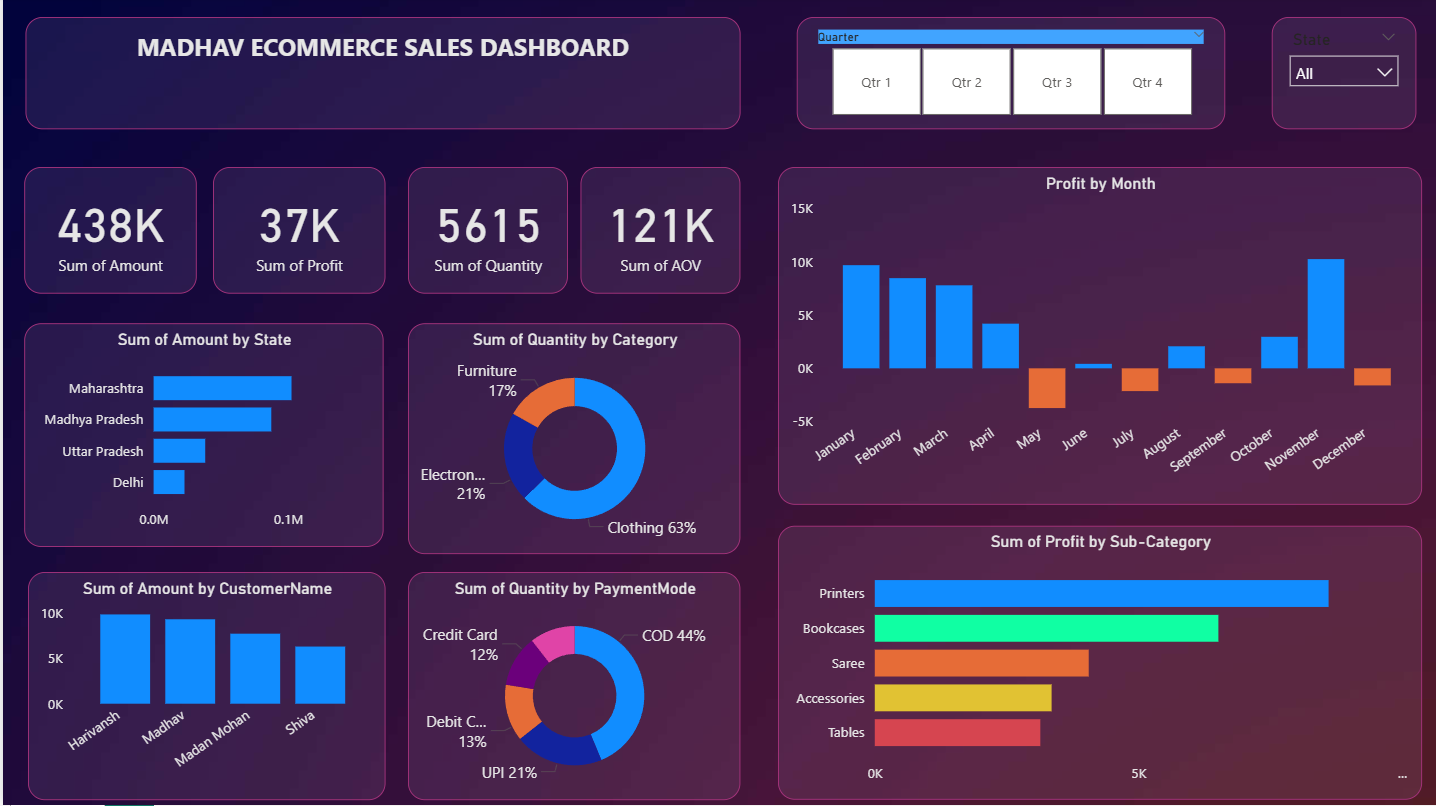

The dashboard page shown, as its layout file describes it:
{"tool":"powerbi","page":{"name":"Page 1","canvas":[1280,720],"ordinal":0},"visuals":[{"type":"textbox","box":[20.6,17.8,636.7,100.2],"z":0},{"type":"columnChart","title":" Profit by Month","fields":{"Category":["Orders.Order Date.Variation.Date Hierarchy.Month"],"Y":["Sum(Details.Profit)"]},"box":[690.2,150.9,573.6,300.5],"z":1000},{"type":"barChart","fields":{"Category":["Details.Sub-Category"],"Y":["Sum(Details.Profit)"]},"box":[690.2,470.7,573.6,244.3],"z":2000},{"type":"donutChart","fields":{"Y":["Sum(Details.Quantity)"],"Category":["Details.PaymentMode"]},"box":[360.9,511.8,296.4,203.1],"z":3000},{"type":"donutChart","fields":{"Y":["Sum(Details.Quantity)"],"Category":["Details.Category"]},"box":[360.9,290.9,296.4,205.8],"z":4000},{"type":"card","fields":{"Values":["Sum(Details.Amount)"]},"box":[19.2,150.9,153.7,112.5],"z":5000},{"type":"card","fields":{"Values":["Sum(Details.Quantity)"]},"box":[360.9,150.9,142.7,112.5],"z":6000},{"type":"card","fields":{"Values":["Sum(Details.Profit)"]},"box":[186.6,150.9,153.7,112.5],"z":7000},{"type":"card","fields":{"Values":["Sum(Details.AOV)"]},"box":[514.6,150.9,142.7,112.5],"z":8000},{"type":"barChart","fields":{"Category":["Orders.State"],"Y":["Sum(Details.Amount)"]},"box":[19.2,290.9,319.7,199],"z":9000},{"type":"columnChart","fields":{"Category":["Orders.CustomerName"],"Y":["Sum(Details.Amount)"]},"box":[22,511.8,318.4,203.1],"z":10000},{"type":"slicer","fields":{"Values":["Orders.Order Date.Variation.Date Hierarchy.Quarter"]},"box":[706.7,17.8,381.5,100.2],"z":11000},{"type":"slicer","fields":{"Values":["Orders.State"]},"box":[1129.3,17.8,129,100.2],"z":12000}]}

Visuals, with their boxes in screenshot pixels (x1, y1, x2, y2), scaled from the page's 1280x720 canvas onto the 1436x806 screenshot:
textbox: select_region(23, 20, 737, 132)
" Profit by Month" columnChart: select_region(774, 169, 1418, 505)
barChart - Details.Sub-Category x Sum(Details.Profit): select_region(774, 527, 1418, 800)
donutChart - Sum(Details.Quantity) x Details.PaymentMode: select_region(405, 573, 737, 800)
donutChart - Sum(Details.Quantity) x Details.Category: select_region(405, 326, 737, 556)
card - Sum(Details.Amount): select_region(22, 169, 194, 295)
card - Sum(Details.Quantity): select_region(405, 169, 565, 295)
card - Sum(Details.Profit): select_region(209, 169, 382, 295)
card - Sum(Details.AOV): select_region(577, 169, 737, 295)
barChart - Orders.State x Sum(Details.Amount): select_region(22, 326, 380, 548)
columnChart - Orders.CustomerName x Sum(Details.Amount): select_region(25, 573, 382, 800)
slicer - Orders.Order Date.Variation.Date Hierarchy.Quarter: select_region(793, 20, 1221, 132)
slicer - Orders.State: select_region(1267, 20, 1412, 132)
